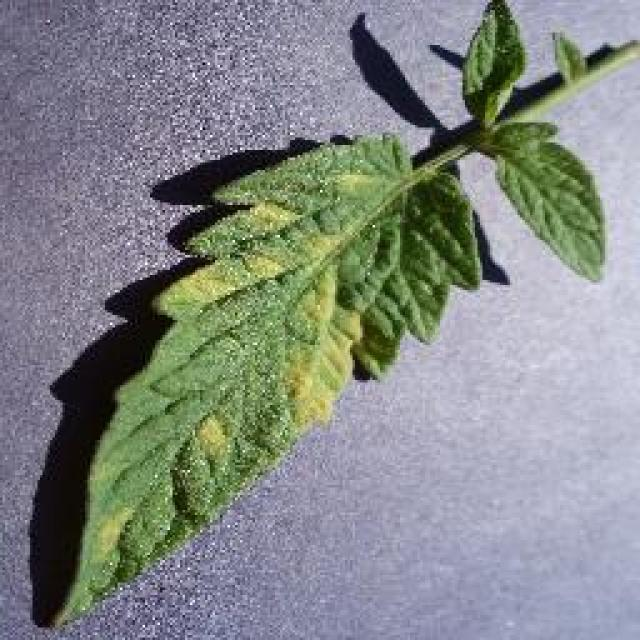Tomato___Leaf_Mold: (44, 0, 638, 632)
